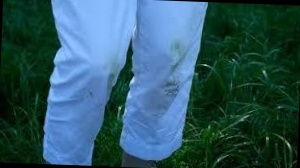earth: (105, 59, 120, 81), (170, 41, 183, 64)
